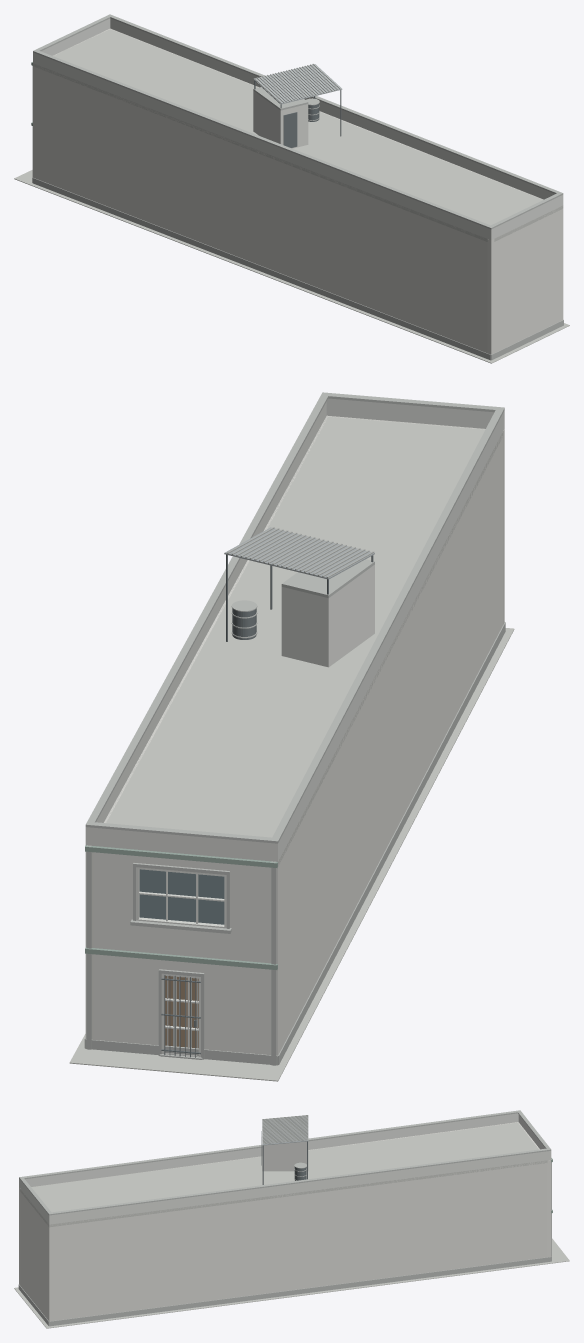
File: lot_1134712.glb
3 views of the same model, one above another, from view 1: azimuth 30°, elevation 25°; view 2: azimuth 150°, elevation 25°; view 3: azimuth 270°, elevation 25° (orthographic). The views are drawn at different scales.
Parts seen in each view (by area): view 1: wall_12, roof_slab_11, parapet_0, wall_13, parapet_cap_2, plinth_2, lot_paving_11, rooftop_room_0, canopy_sheet_8, corrugation_2, rooftop_door_5; view 2: roof_slab_11, wall_12, wall_15, parapet_0, parapet_cap_2, lot_paving_11, rooftop_room_0, plinth_2, window_panel_4, corrugation_2, floor_band_1, canopy_sheet_8 (+7 smaller); view 3: wall_14, roof_slab_11, parapet_0, parapet_cap_2, plinth_2, wall_13, lot_paving_11, rooftop_room_0, corrugation_2, canopy_sheet_8, wall_15, wall_12.
Boxes of the visible parts, left/top/right/bottom form: wall_12: left=33, top=63, right=494, bottom=354; roof_slab_11: left=33, top=28, right=563, bottom=241; parapet_0: left=33, top=18, right=563, bottom=240; wall_13: left=487, top=206, right=563, bottom=354; parapet_cap_2: left=33, top=14, right=563, bottom=229; plinth_2: left=32, top=177, right=563, bottom=360; lot_paving_11: left=14, top=170, right=569, bottom=363; rooftop_room_0: left=253, top=91, right=308, bottom=148; canopy_sheet_8: left=253, top=64, right=342, bottom=104; corrugation_2: left=254, top=63, right=340, bottom=103; rooftop_door_5: left=283, top=112, right=297, bottom=147; roof_slab_11: left=104, top=416, right=502, bottom=866; wall_12: left=278, top=432, right=502, bottom=1055; wall_15: left=93, top=852, right=277, bottom=1055; parapet_0: left=85, top=398, right=504, bottom=861; parapet_cap_2: left=85, top=392, right=504, bottom=843; lot_paving_11: left=69, top=628, right=514, bottom=1081; rooftop_room_0: left=281, top=564, right=374, bottom=667; plinth_2: left=84, top=622, right=505, bottom=1065; window_panel_4: left=139, top=869, right=224, bottom=924; corrugation_2: left=227, top=527, right=374, bottom=577; floor_band_1: left=85, top=845, right=277, bottom=969; canopy_sheet_8: left=224, top=527, right=374, bottom=579; wall_14: left=49, top=1161, right=547, bottom=1321; roof_slab_11: left=20, top=1122, right=547, bottom=1227; parapet_0: left=19, top=1113, right=551, bottom=1224; parapet_cap_2: left=19, top=1110, right=551, bottom=1215; plinth_2: left=18, top=1256, right=551, bottom=1326; wall_13: left=20, top=1190, right=49, bottom=1321; lot_paving_11: left=14, top=1238, right=569, bottom=1328; rooftop_room_0: left=262, top=1141, right=308, bottom=1171; corrugation_2: left=262, top=1115, right=308, bottom=1144; canopy_sheet_8: left=262, top=1116, right=308, bottom=1145; wall_15: left=517, top=1122, right=551, bottom=1257; wall_12: left=19, top=1122, right=517, bottom=1285.
Bounding box in the file's own units: 12.96 × 8.07 × 27.66.
